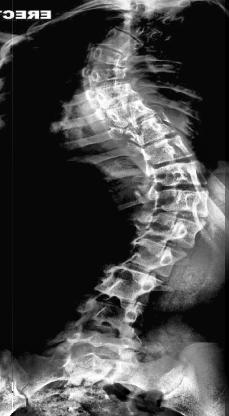Vertebrae: (67, 327, 145, 356), (142, 218, 206, 250), (101, 268, 157, 304), (82, 300, 146, 330), (96, 80, 146, 112), (153, 190, 213, 216), (148, 162, 208, 188), (132, 243, 178, 275), (142, 138, 198, 164), (129, 113, 175, 143), (103, 27, 144, 59), (110, 98, 156, 126), (88, 65, 130, 87), (88, 48, 130, 66)
